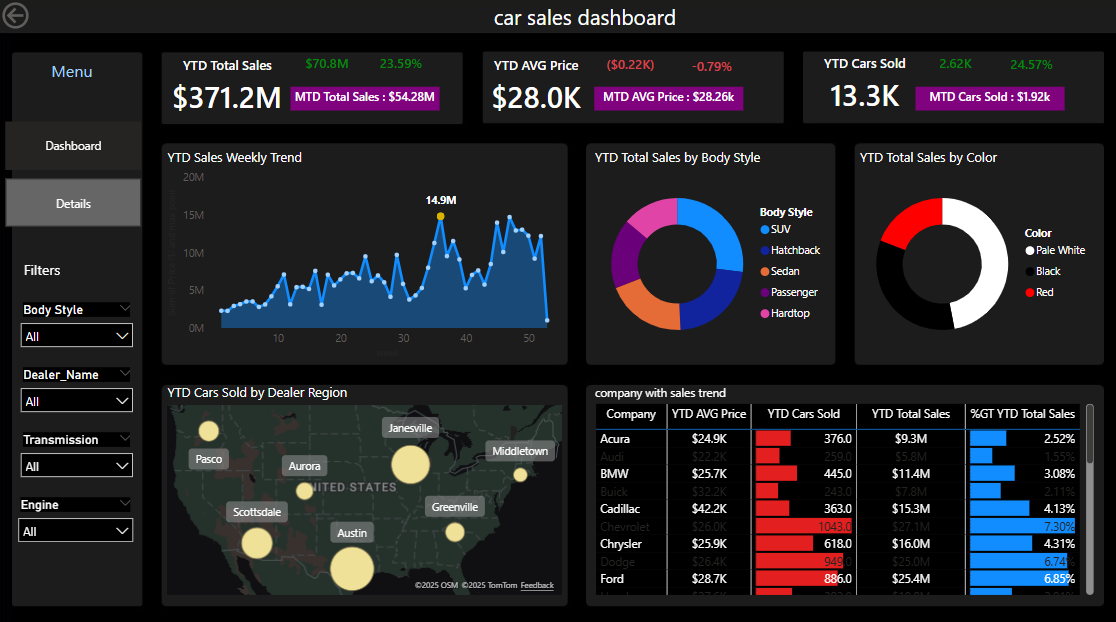

Layout of this report page (visuals, bound fields, positions):
{"tool":"powerbi","page":{"name":"Dashboard","canvas":[1280,720],"ordinal":0},"visuals":[{"type":"card","title":"YTD Total Sales","fields":{"Values":["car_data.YTD Total Sales"]},"box":[176.2,65,172.5,75],"z":0},{"type":"card","fields":{"Values":["car_data.Sales Difference"]},"box":[343.8,62.5,63.8,28.8],"z":1000},{"type":"card","fields":{"Values":["car_data.YOY Sales Growth"]},"box":[428.6,62.9,64.3,28.6],"z":2000},{"type":"card","fields":{"Values":["car_data.MTD KPI"]},"box":[335,101.2,170,27.5],"z":3000},{"type":"actionButton","box":[0,0,100,40],"z":4000},{"type":"card","title":"YTD AVG Price","fields":{"Values":["car_data.YTD AVG Price"]},"box":[528.6,65.7,172.9,74.3],"z":5000},{"type":"card","fields":{"Values":["car_data.AVG Price Difference"]},"box":[690,64.3,65.7,28.6],"z":6000},{"type":"card","fields":{"Values":["car_data.YOY AVG Price Growth"]},"box":[782.9,65.7,65.7,28.6],"z":7000},{"type":"card","fields":{"Values":["car_data.MTD AVG KPI"]},"box":[681.4,101.4,170,27.1],"z":8000},{"type":"card","title":"YTD Cars Sold","fields":{"Values":["car_data.YTD Cars Sold"]},"box":[904.3,64.3,172.9,74.3],"z":9000},{"type":"card","fields":{"Values":["car_data.Cars Sold Difference"]},"box":[1061.4,62.9,65.7,28.6],"z":10000},{"type":"card","fields":{"Values":["car_data.YOY Cars Sold"]},"box":[1148.6,64.3,65.7,28.6],"z":11000},{"type":"card","fields":{"Values":["car_data.MTD Cars Sold KPI"]},"box":[1048.6,101.4,170,27.1],"z":12000},{"type":"areaChart","title":"YTD Sales Weekly Trend","fields":{"Category":["Calendar Table.week"],"Y":["Sum(car_data.Price ($))","car_data.max point"]},"box":[188.6,171.4,461.4,245.7],"z":13000},{"type":"donutChart","fields":{"Category":["car_data.Body Style"],"Y":["car_data.YTD Total Sales"]},"box":[677.2,171.3,276.6,245.5],"z":14000},{"type":"donutChart","fields":{"Y":["car_data.YTD Total Sales"],"Category":["car_data.Color"]},"box":[979.4,171.3,276.6,245.5],"z":15000},{"type":"map","title":"YTD Cars Sold by Dealer Region","fields":{"Category":["car_data.Dealer_Region"],"Size":["car_data.YTD Cars Sold"]},"box":[188.6,440,461.4,247.1],"z":16000},{"type":"tableEx","title":"company with sales trend","fields":{"Values":["car_data.Company","car_data.YTD AVG Price","car_data.YTD Cars Sold","car_data.YTD Total Sales","Divide(car_data.YTD Total Sales, ScopedEval(car_data.YTD Total Sales, []))"]},"box":[677.1,441.4,580,245.7],"z":17000},{"type":"textbox","box":[561.4,0,231.4,50],"z":18000},{"type":"slicer","fields":{"Values":["car_data.Body Style"]},"box":[15.7,342.9,148.6,74.3],"z":19000},{"type":"slicer","fields":{"Values":["car_data.Dealer_Name"]},"box":[15.7,417.1,148.6,74.3],"z":20000},{"type":"slicer","fields":{"Values":["car_data.Transmission"]},"box":[15.7,491.4,148.6,74.3],"z":21000},{"type":"slicer","fields":{"Values":["car_data.Engine"]},"box":[12.9,565.7,151.4,74.3],"z":22000},{"type":"textbox","box":[24.3,294.3,65.7,35.7],"z":23000},{"type":"textbox","box":[55.7,65.7,65.7,35.7],"z":24000},{"type":"pageNavigator","box":[8.6,141.4,155.7,120],"z":25000}]}

Visuals, with their boxes on the page's 1280x720 design canvas (x1, y1, x2, y2). These are canvas units, not pixel positions in the 1116x622 screenshot, which may show the page scaled, cropped or inside an application window:
"YTD Total Sales" card: pyautogui.locateOnScreen(176, 65, 349, 140)
card - car_data.Sales Difference: pyautogui.locateOnScreen(344, 62, 408, 91)
card - car_data.YOY Sales Growth: pyautogui.locateOnScreen(429, 63, 493, 92)
card - car_data.MTD KPI: pyautogui.locateOnScreen(335, 101, 505, 129)
actionButton: pyautogui.locateOnScreen(0, 0, 100, 40)
"YTD AVG Price" card: pyautogui.locateOnScreen(529, 66, 702, 140)
card - car_data.AVG Price Difference: pyautogui.locateOnScreen(690, 64, 756, 93)
card - car_data.YOY AVG Price Growth: pyautogui.locateOnScreen(783, 66, 849, 94)
card - car_data.MTD AVG KPI: pyautogui.locateOnScreen(681, 101, 851, 128)
"YTD Cars Sold" card: pyautogui.locateOnScreen(904, 64, 1077, 139)
card - car_data.Cars Sold Difference: pyautogui.locateOnScreen(1061, 63, 1127, 92)
card - car_data.YOY Cars Sold: pyautogui.locateOnScreen(1149, 64, 1214, 93)
card - car_data.MTD Cars Sold KPI: pyautogui.locateOnScreen(1049, 101, 1219, 128)
"YTD Sales Weekly Trend" areaChart: pyautogui.locateOnScreen(189, 171, 650, 417)
donutChart - car_data.Body Style x car_data.YTD Total Sales: pyautogui.locateOnScreen(677, 171, 954, 417)
donutChart - car_data.YTD Total Sales x car_data.Color: pyautogui.locateOnScreen(979, 171, 1256, 417)
"YTD Cars Sold by Dealer Region" map: pyautogui.locateOnScreen(189, 440, 650, 687)
"company with sales trend" tableEx: pyautogui.locateOnScreen(677, 441, 1257, 687)
textbox: pyautogui.locateOnScreen(561, 0, 793, 50)
slicer - car_data.Body Style: pyautogui.locateOnScreen(16, 343, 164, 417)
slicer - car_data.Dealer_Name: pyautogui.locateOnScreen(16, 417, 164, 491)
slicer - car_data.Transmission: pyautogui.locateOnScreen(16, 491, 164, 566)
slicer - car_data.Engine: pyautogui.locateOnScreen(13, 566, 164, 640)
textbox: pyautogui.locateOnScreen(24, 294, 90, 330)
textbox: pyautogui.locateOnScreen(56, 66, 121, 101)
pageNavigator: pyautogui.locateOnScreen(9, 141, 164, 261)
